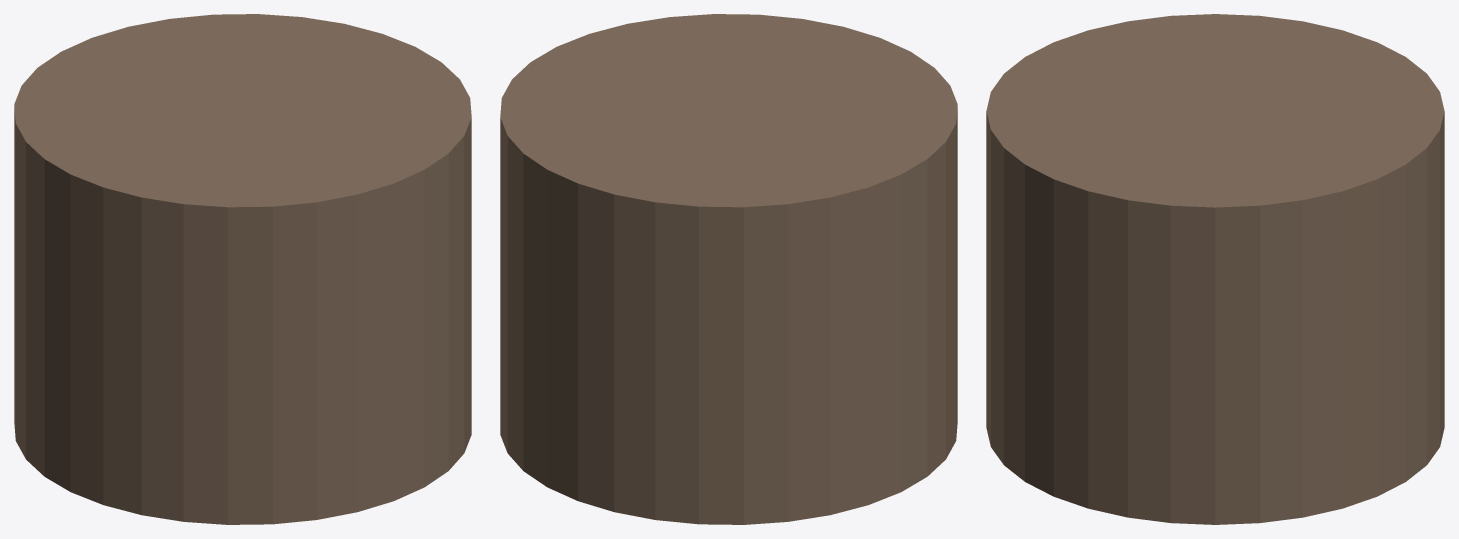
The model's file is stump.glb.
The picture shows the model from 3 angles, left to right: view 1: azimuth 30°, elevation 25°; view 2: azimuth 150°, elevation 25°; view 3: azimuth 270°, elevation 25°; orthographic projection.
Visible parts, largest first — view 1: stump; view 2: stump; view 3: stump.
Part boxes in pixels (box(x1,y1,x2,y2)): stump: box(14, 14, 471, 524); stump: box(500, 14, 957, 524); stump: box(986, 14, 1444, 524).
Size of the model in its own units: 0.68 by 0.52 by 0.68.
